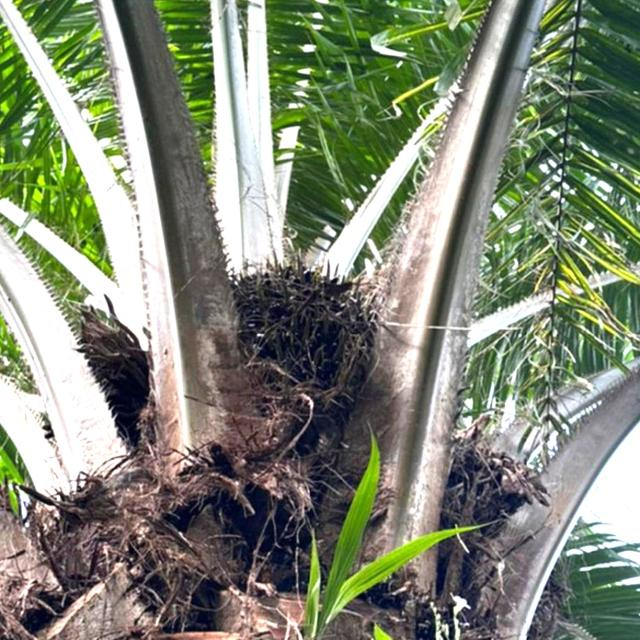unripe: (210, 248, 398, 450)
